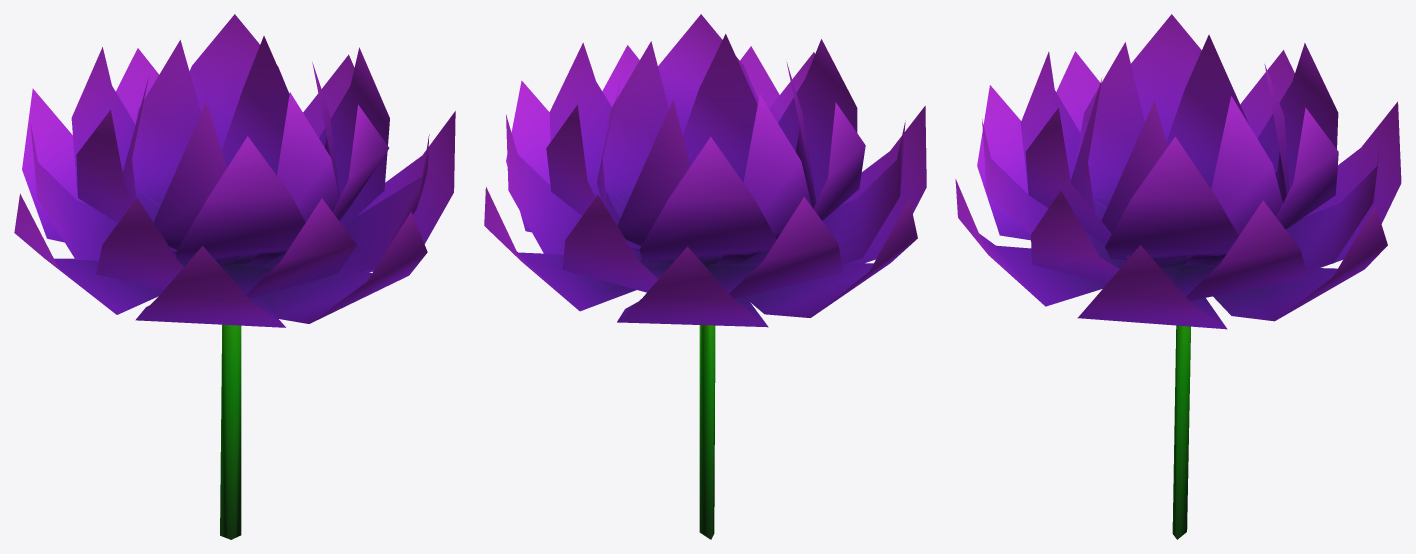
The model's file is flower (13)_LOD2.fbx.
3 views of the same model, side by side, from view 1: azimuth 30°, elevation 25°; view 2: azimuth 150°, elevation 25°; view 3: azimuth 270°, elevation 25° (orthographic).
Parts seen in each view (by area): view 1: 12_f2; view 2: 12_f2; view 3: 12_f2.
Boxes of the visible parts, x1=… form: 12_f2: x1=14, y1=14, x2=455, y2=539; 12_f2: x1=484, y1=14, x2=926, y2=539; 12_f2: x1=955, y1=14, x2=1401, y2=539.
Size of the model in its own units: 106 by 115 by 99.5.
